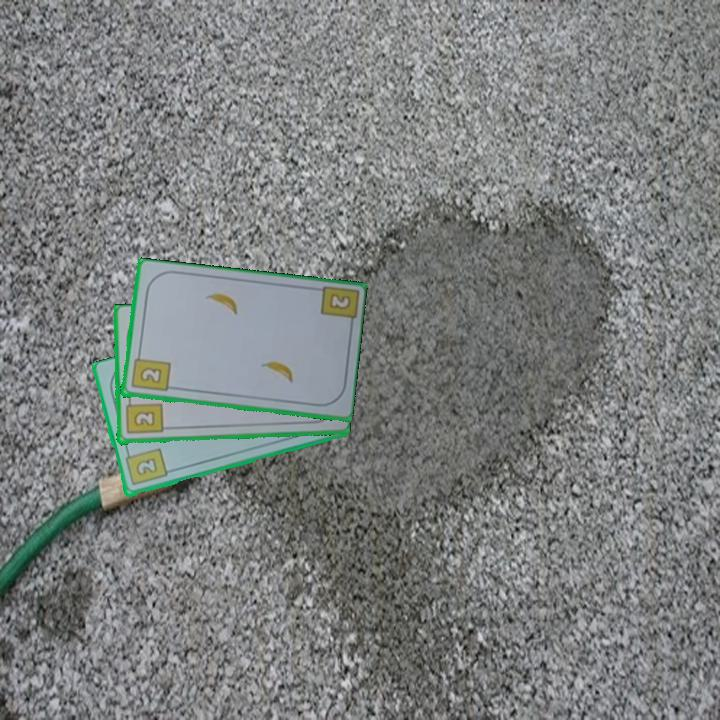2b: (121, 445, 170, 489), (128, 349, 172, 395), (122, 395, 165, 437), (325, 290, 354, 313)
